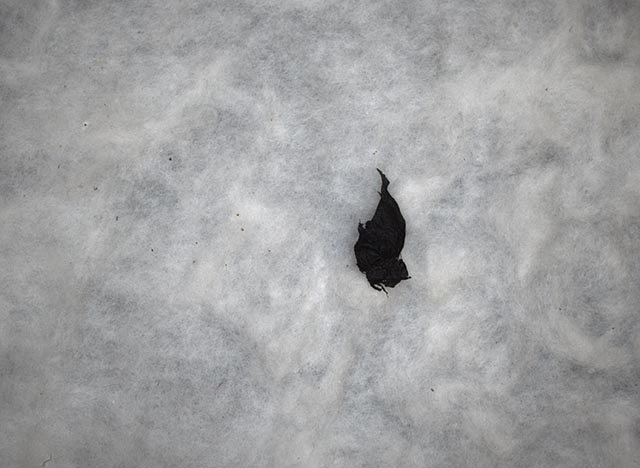plastic film: (355, 167, 414, 297)
